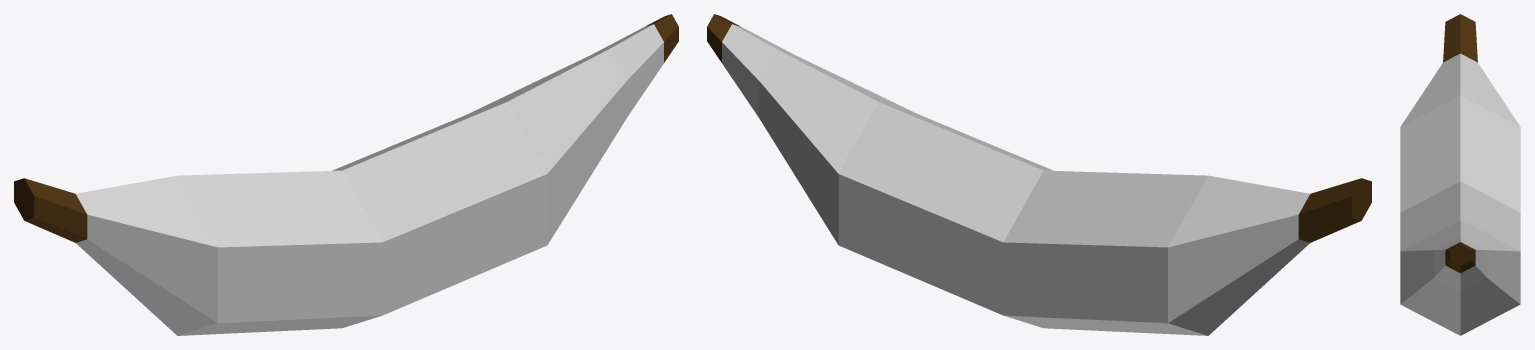
The model's file is Banan.fbx.
3 renders of one model, left to right at view 1: azimuth 30°, elevation 25°; view 2: azimuth 150°, elevation 25°; view 3: azimuth 270°, elevation 25°, orthographic. The views are drawn at different scales.
Visible parts, largest first — view 1: Banan; view 2: Banan; view 3: Banan.
Boxes of the visible parts, x1,y1,x2,y2 form: Banan: (14, 14, 678, 335); Banan: (707, 14, 1371, 335); Banan: (1400, 14, 1520, 335).
Size of the model in its own units: 401 by 138 by 86.6.
